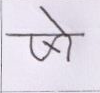e_matra: (41, 7, 69, 33)
